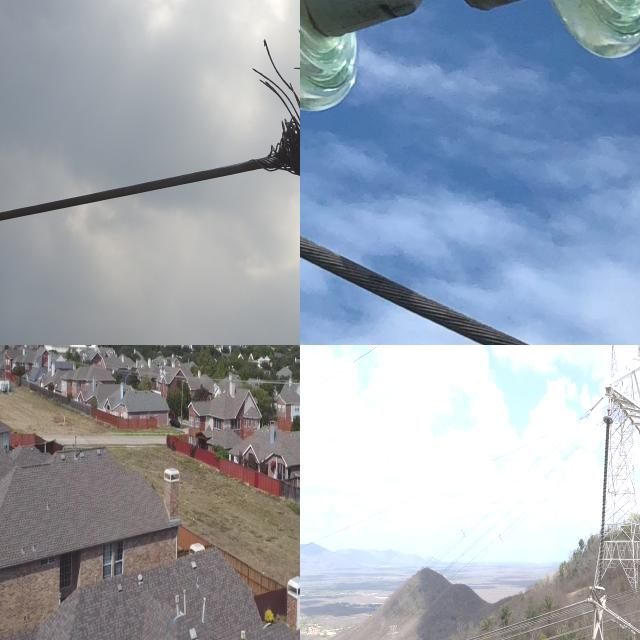正常电缆: (300, 421, 560, 557), (444, 595, 580, 640)
正常绝缘子: (300, 0, 640, 120), (594, 415, 614, 593)
绝缘子破损: (358, 0, 503, 34)
